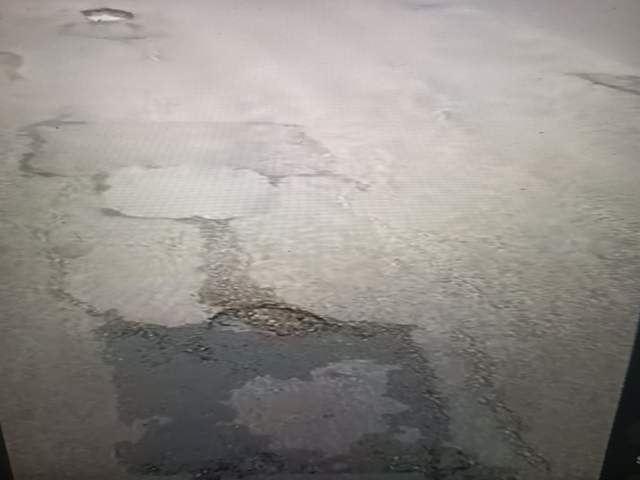pothole: (106, 403, 317, 480)
